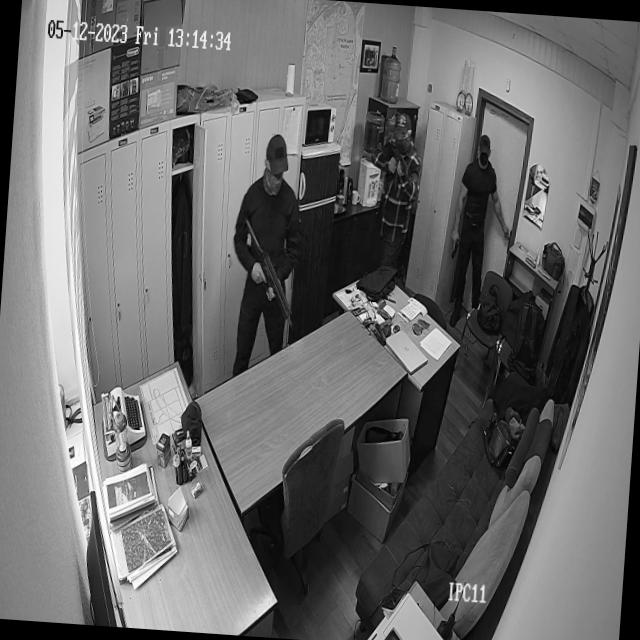gun: (232, 210, 298, 326), (382, 146, 418, 189), (448, 228, 461, 262)
person with a gun: (225, 126, 308, 348), (448, 130, 516, 270), (366, 112, 426, 266)
